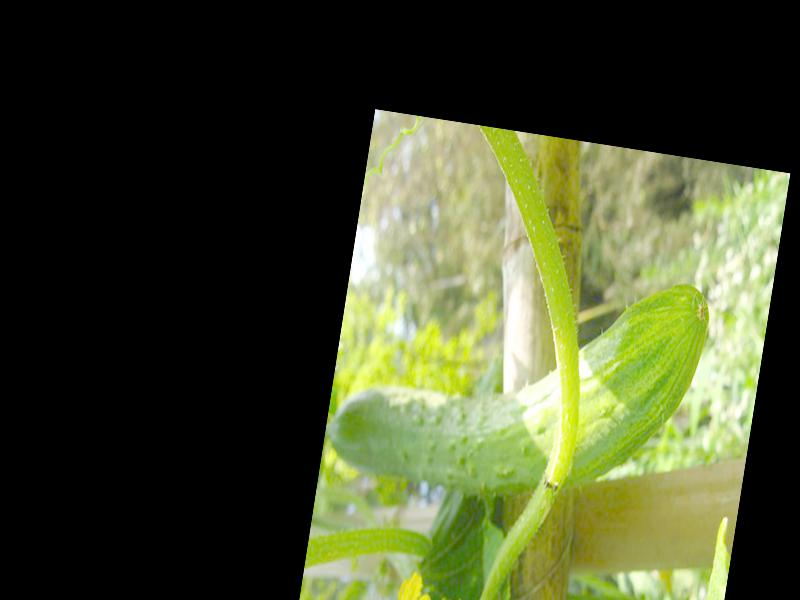Cucumber: (322, 236, 713, 523)
